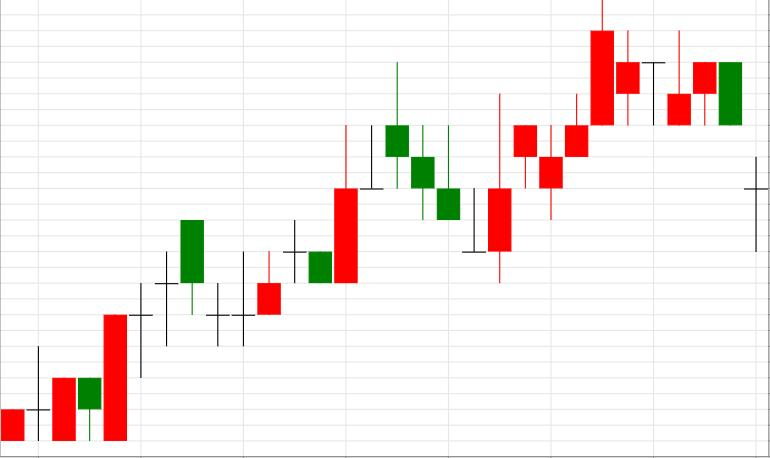morning_star_rise: (385, 63, 512, 284)
